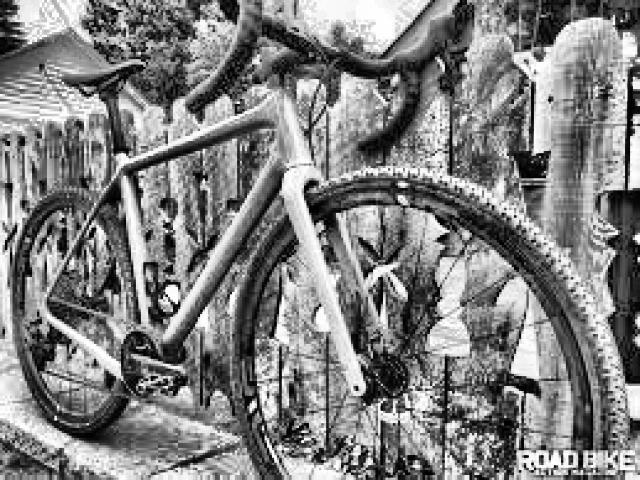cranks_set: (118, 329, 190, 402)
rear_derailleur: (23, 316, 57, 375)
saddle: (59, 59, 147, 96)
wheel: (226, 163, 630, 480), (7, 188, 142, 443)
